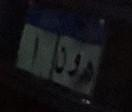1: (22, 32, 44, 65)
ن: (50, 42, 72, 77)
ه: (76, 54, 99, 85)
و: (62, 51, 83, 76)
